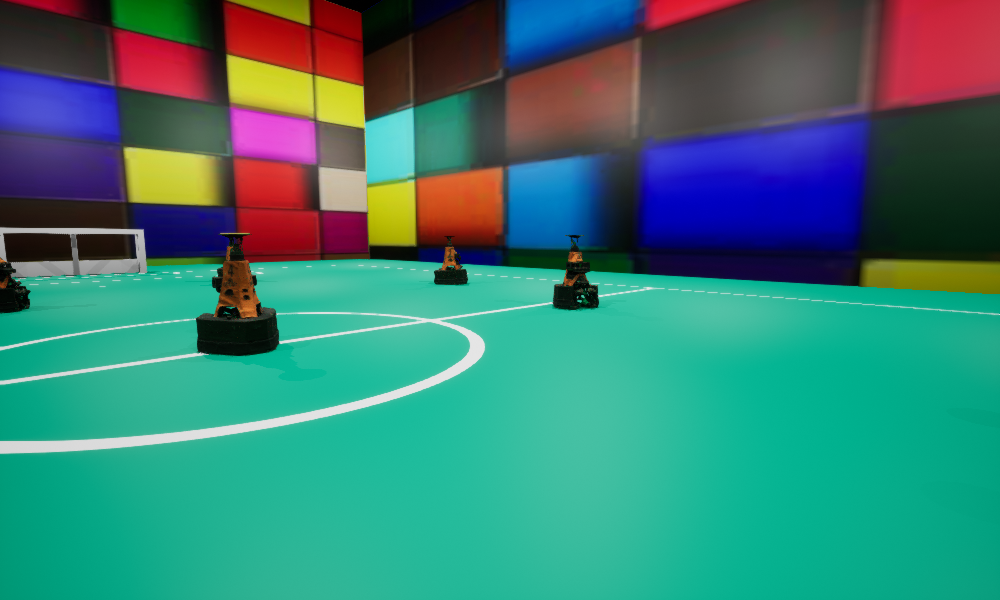o: (196, 233, 278, 355), (553, 235, 598, 309), (0, 235, 30, 312), (434, 236, 467, 284), (217, 236, 250, 276)
